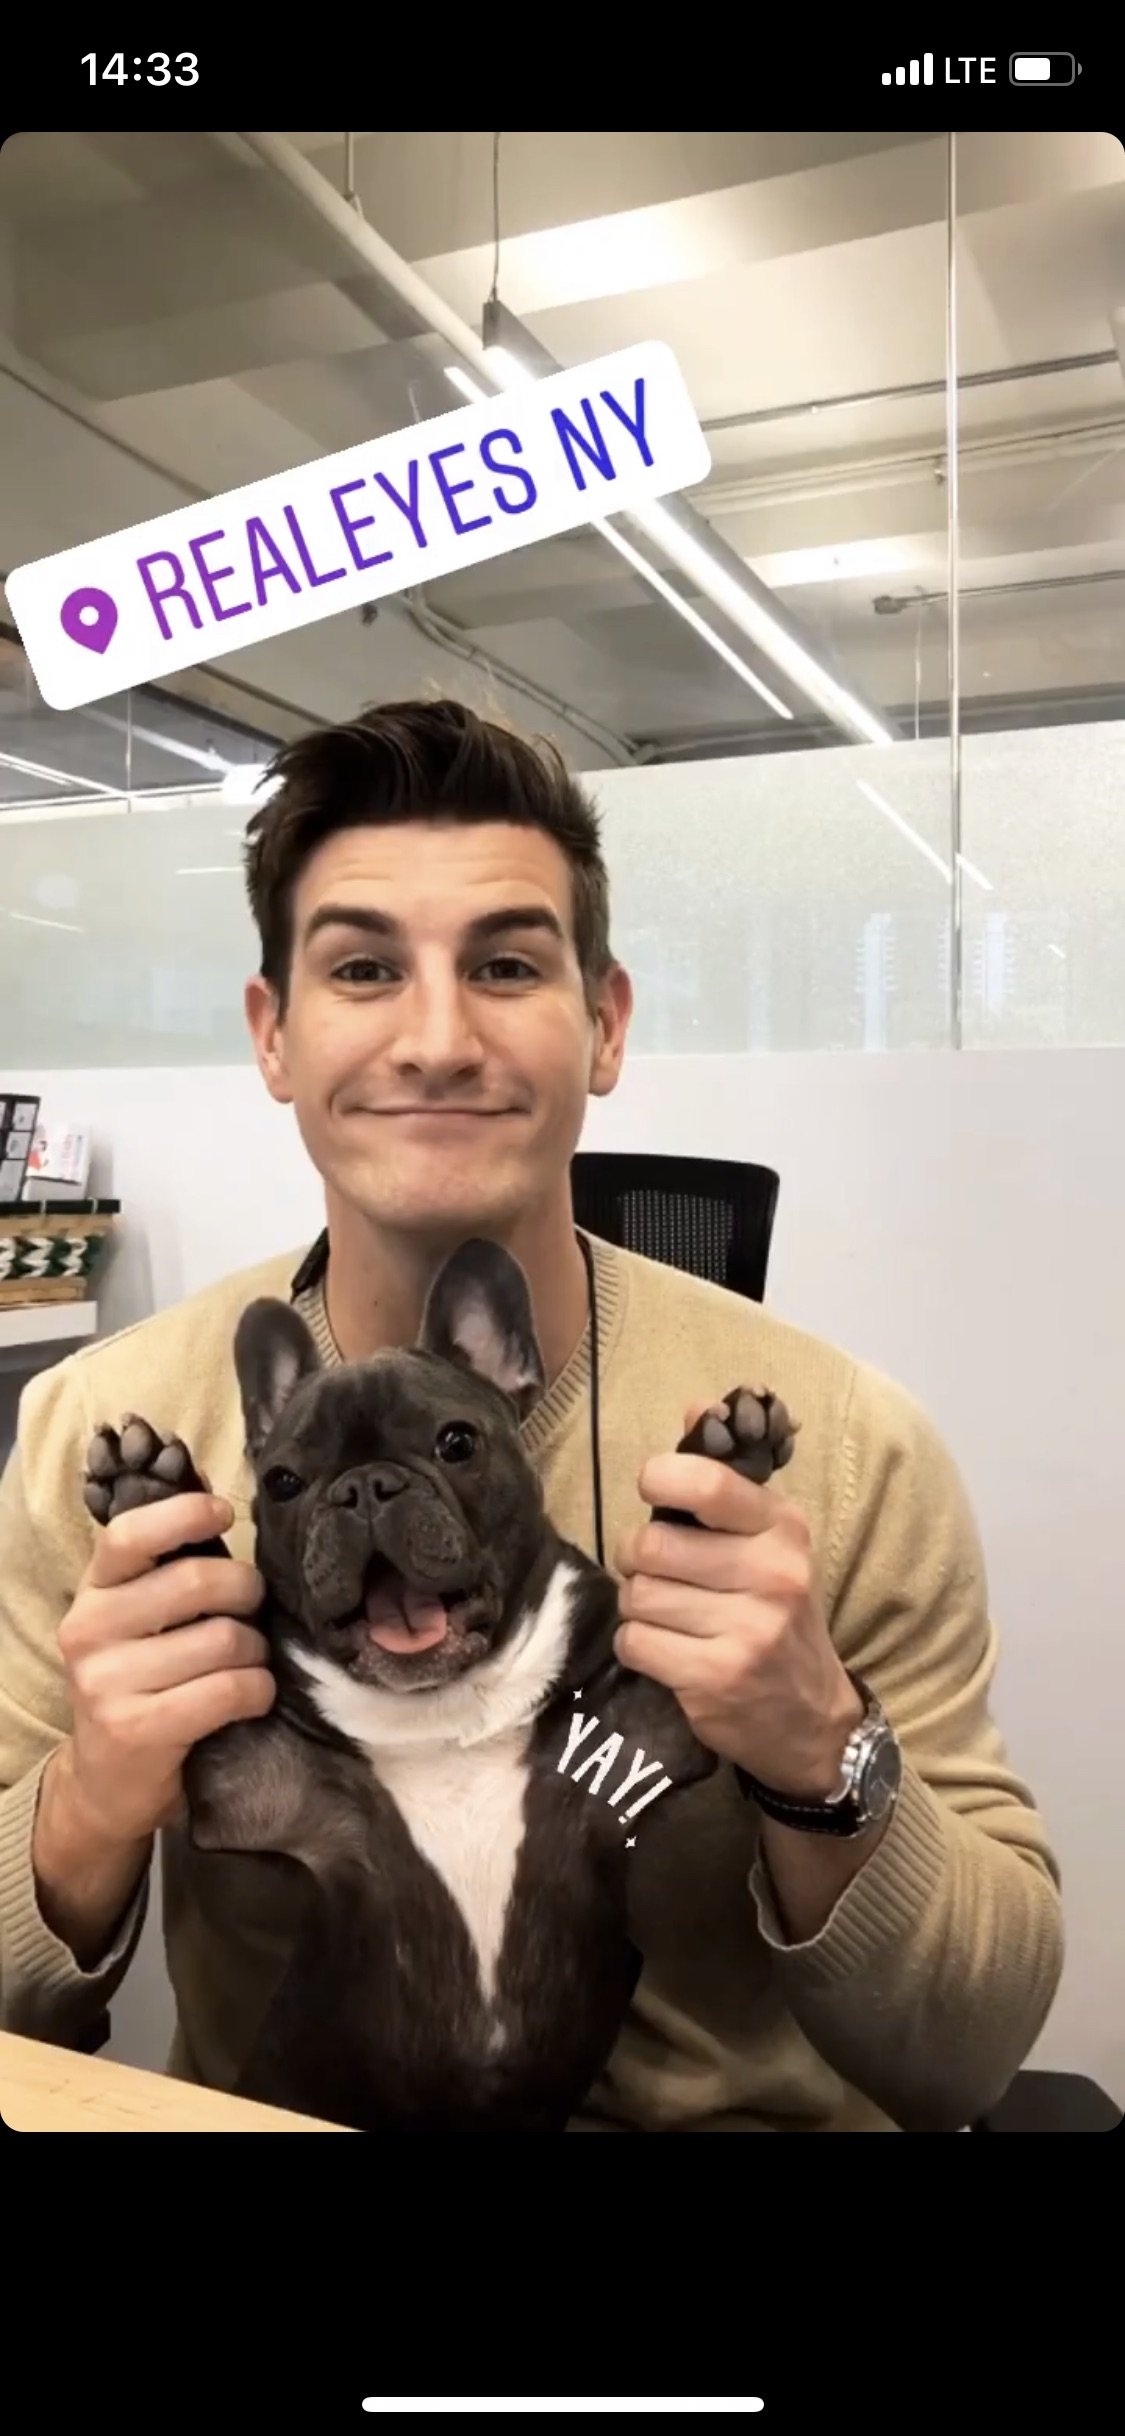lucy: (68, 1235, 816, 2145)
